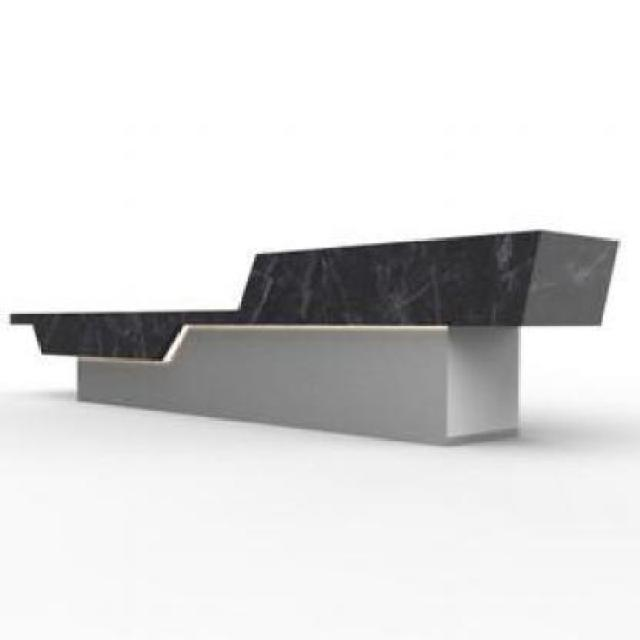frontdesk: (3, 222, 630, 452)
